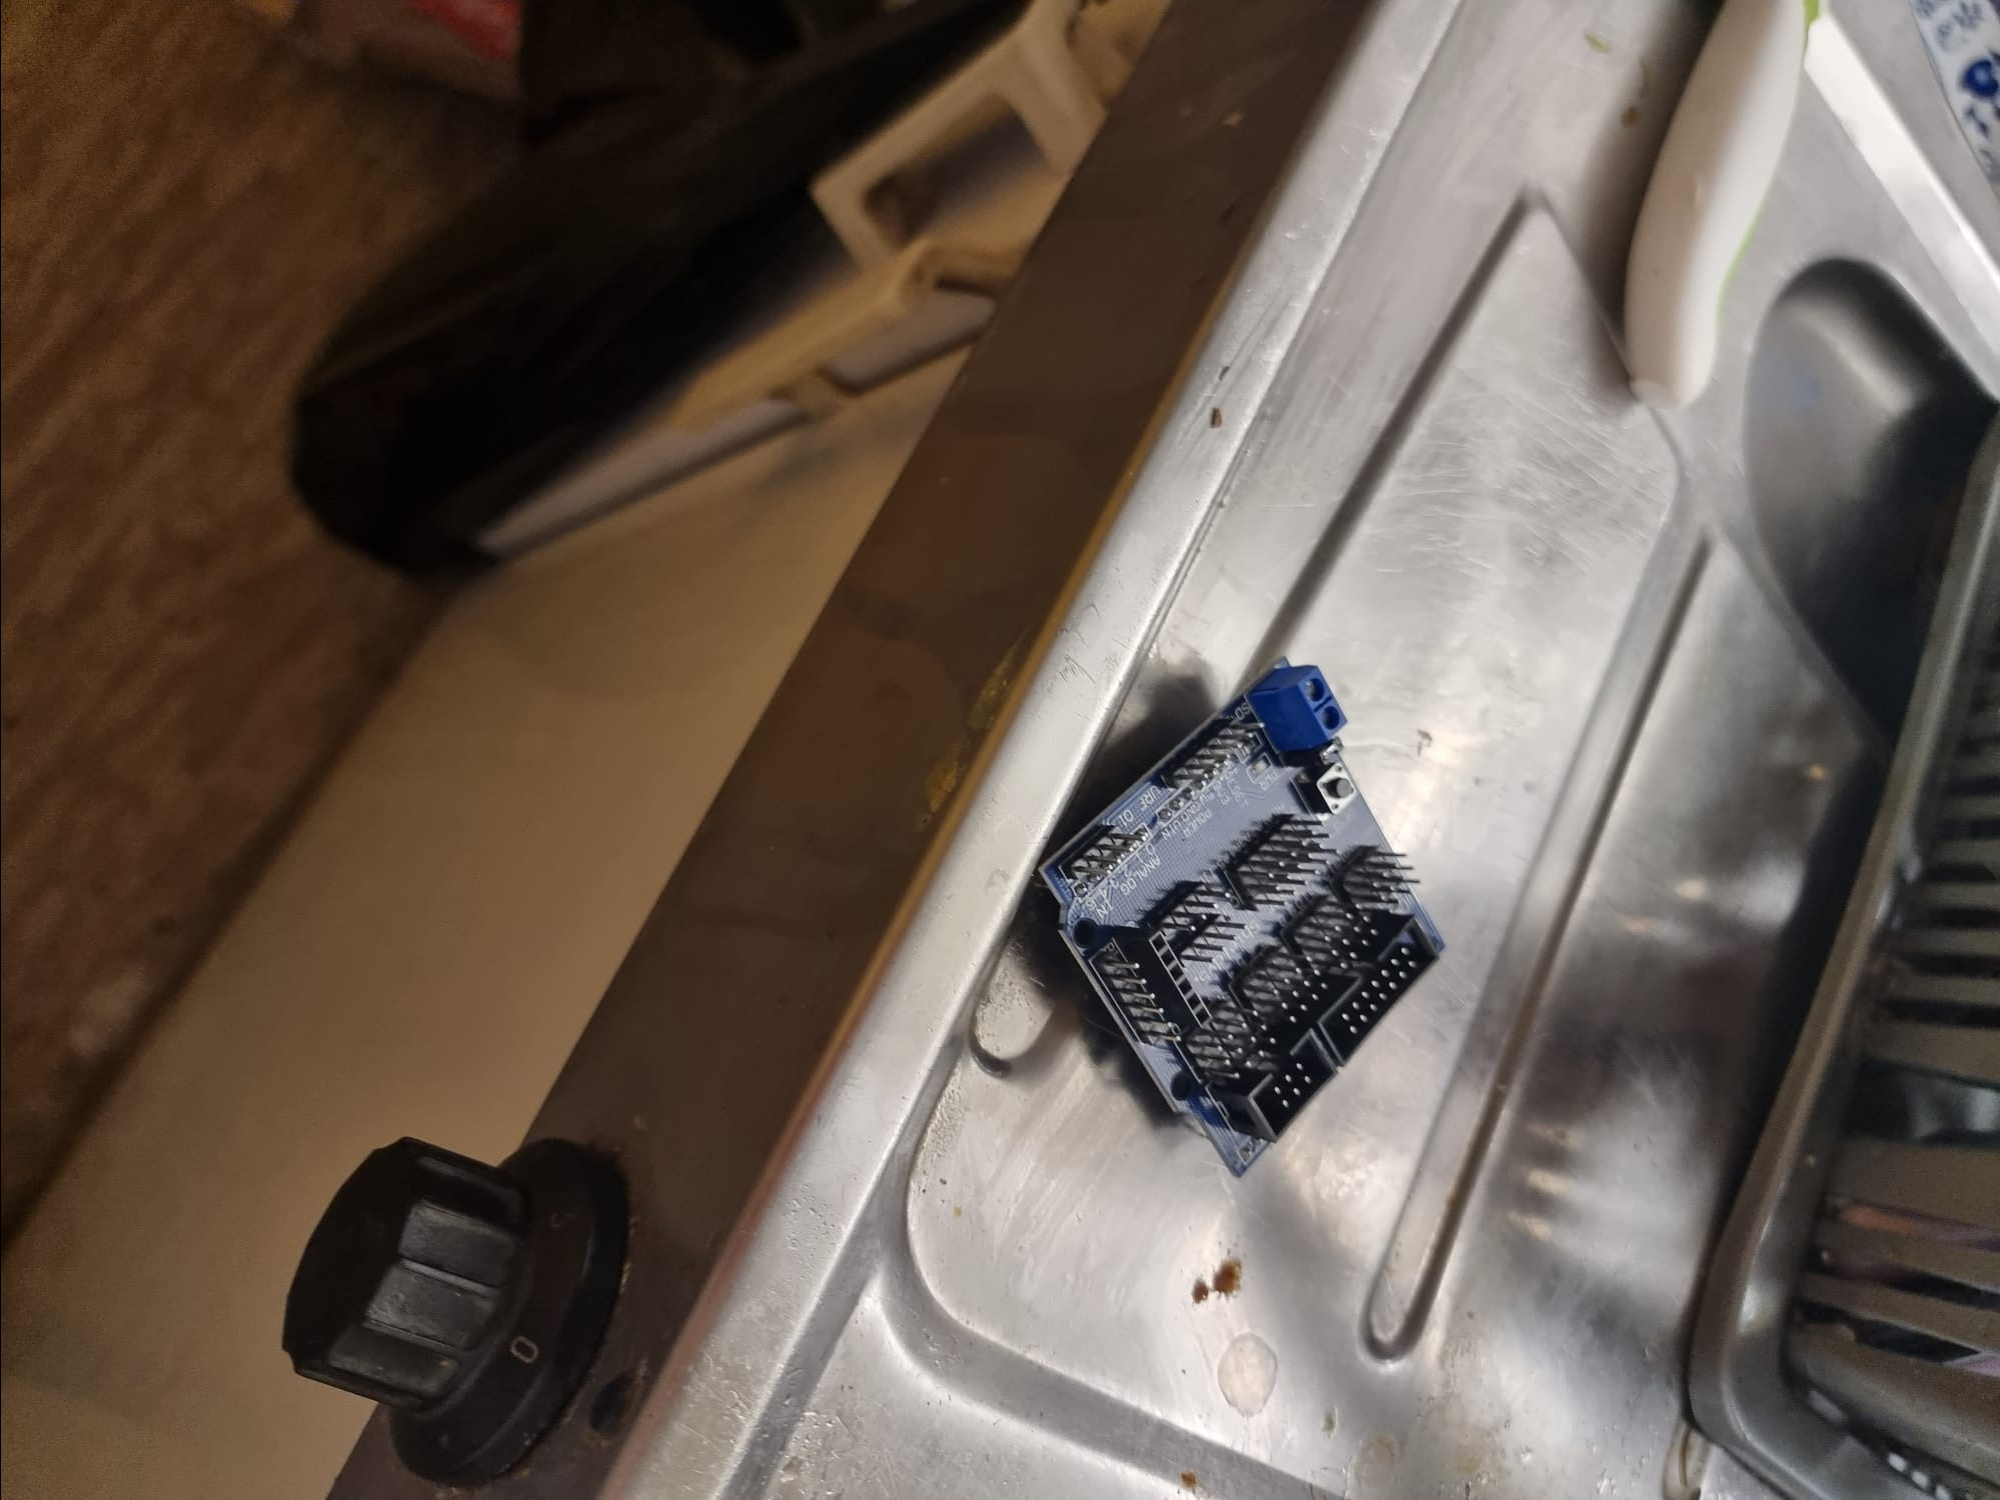5V EXPANSION: (1043, 684, 1457, 1186)
